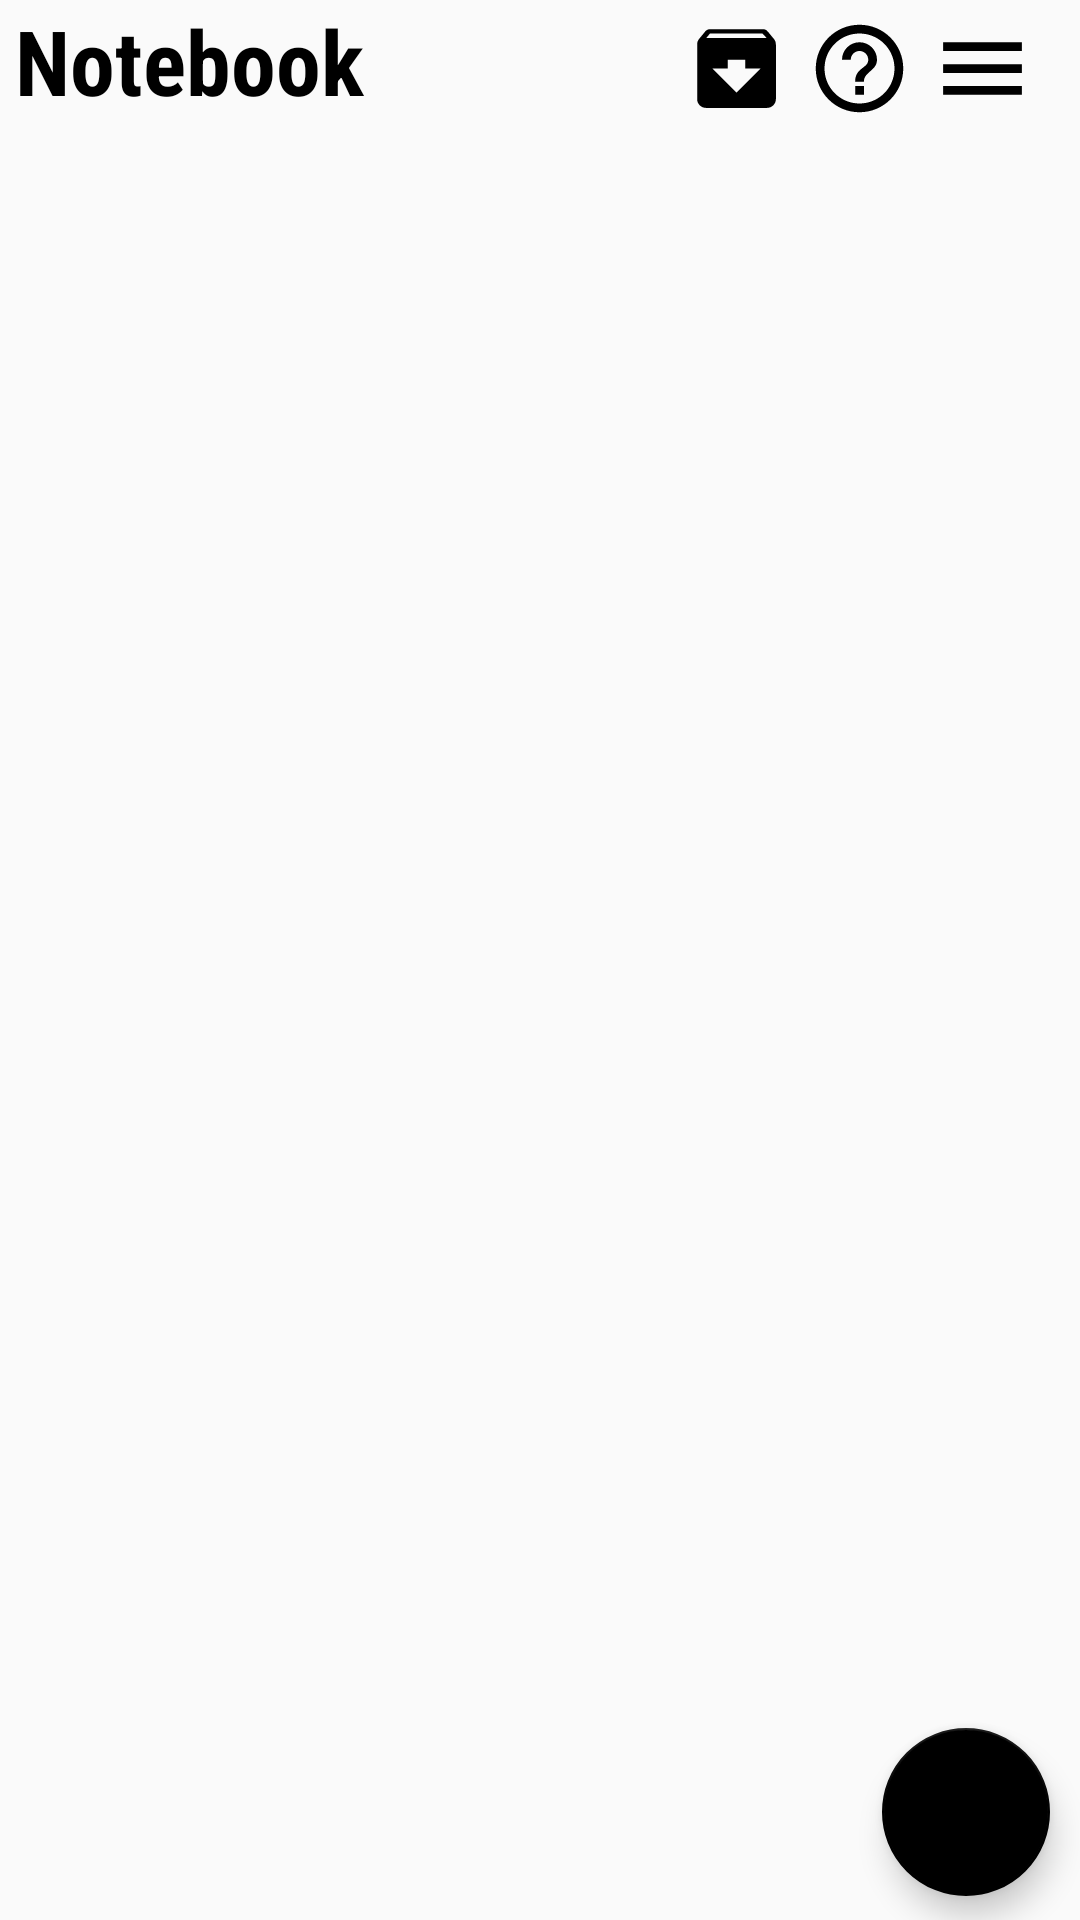

Screen size 1080px x 1920px. Icon name, then its box in pixels as rect(x1, y1, x2, y2):
archive: rect(697, 29, 776, 108)
help: rect(815, 24, 904, 113)
